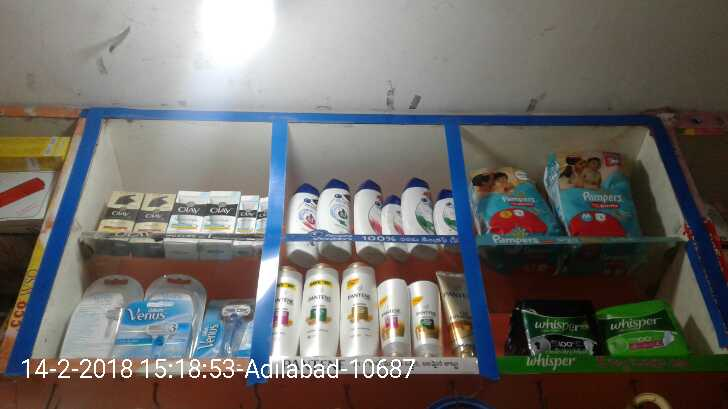venus: (123, 306, 202, 360), (74, 276, 122, 361), (202, 296, 252, 361)
